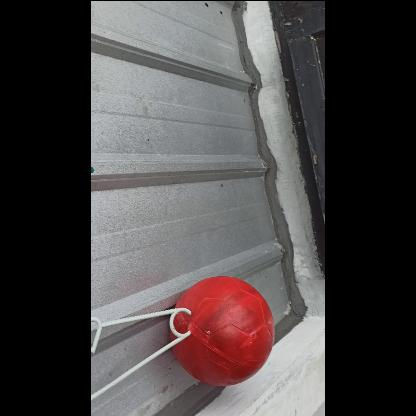red_ball: (169, 274, 277, 382)
